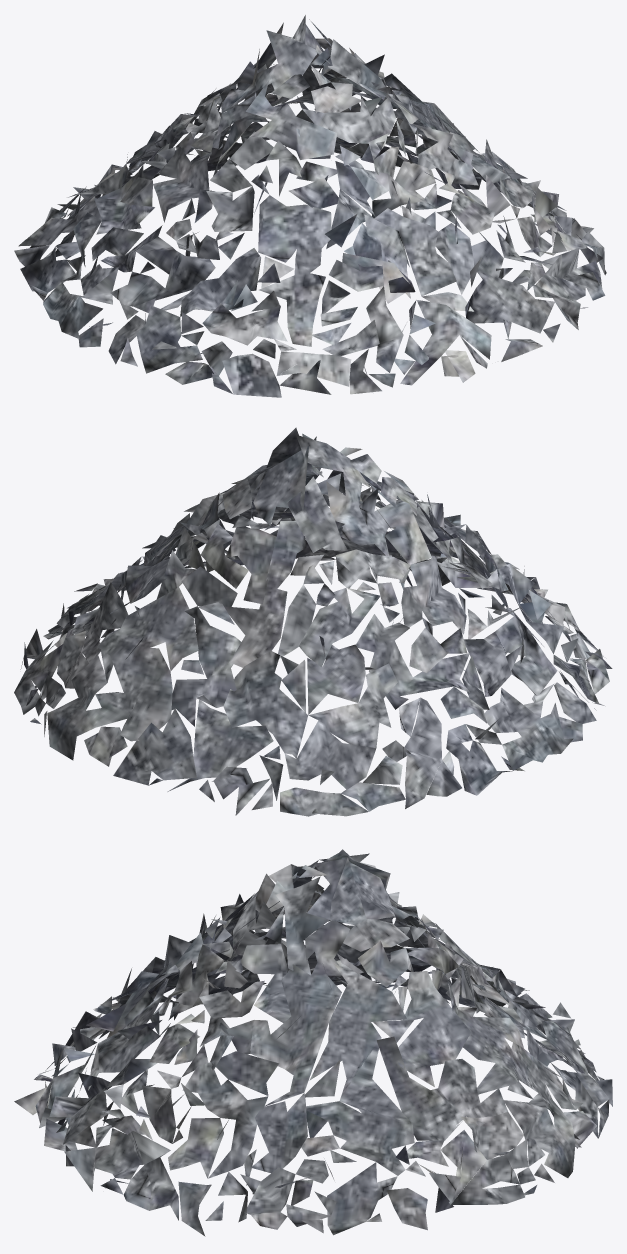
Rendered from steinbruch_kieshaufen.glb.
The picture shows the model from 3 angles, top to bottom: view 1: azimuth 30°, elevation 25°; view 2: azimuth 150°, elevation 25°; view 3: azimuth 270°, elevation 25°; orthographic projection. The views are drawn at different scales.
Visible parts, largest first — view 1: Prop; view 2: Prop; view 3: Prop.
Part boxes in pixels (box(x1,y1,x2,y2)): Prop: box(14, 15, 606, 397); Prop: box(14, 427, 612, 816); Prop: box(14, 849, 612, 1236).
Size of the model in its own units: 2.11 by 1.08 by 2.13.
Materials: 1 (1 with a texture image).
